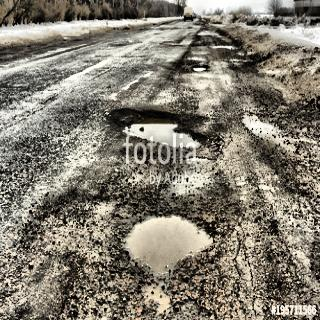pothole: (120, 203, 216, 274), (107, 104, 209, 154), (240, 106, 287, 145), (212, 42, 237, 56), (193, 62, 209, 76)
